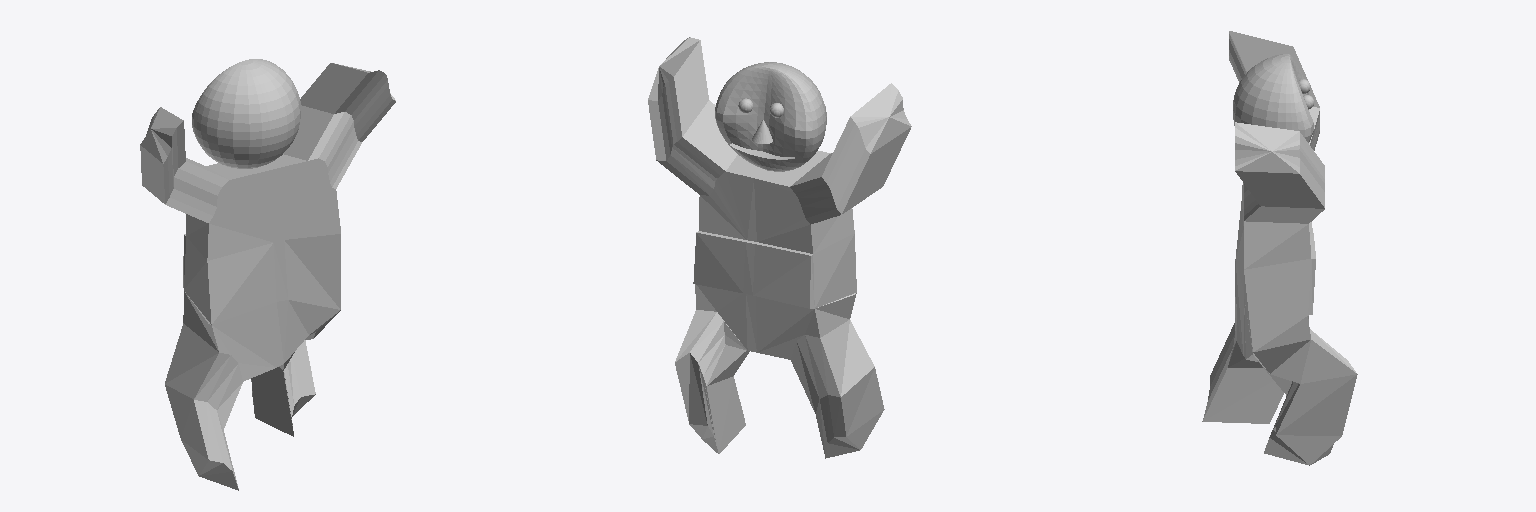
The model's file is man_000007.obj.
3 views of the same model, side by side, from view 1: azimuth 30°, elevation 25°; view 2: azimuth 150°, elevation 25°; view 3: azimuth 270°, elevation 25° (orthographic).
Visible parts, largest first — view 1: Cube; view 2: Cube; view 3: Cube.
Part boxes in pixels (x1,y1,x2,y2): Cube: (140,59,395,490); Cube: (648,37,911,458); Cube: (1202,31,1357,465).
Bounding box in the file's own units: 79.08 × 124 × 44.94.